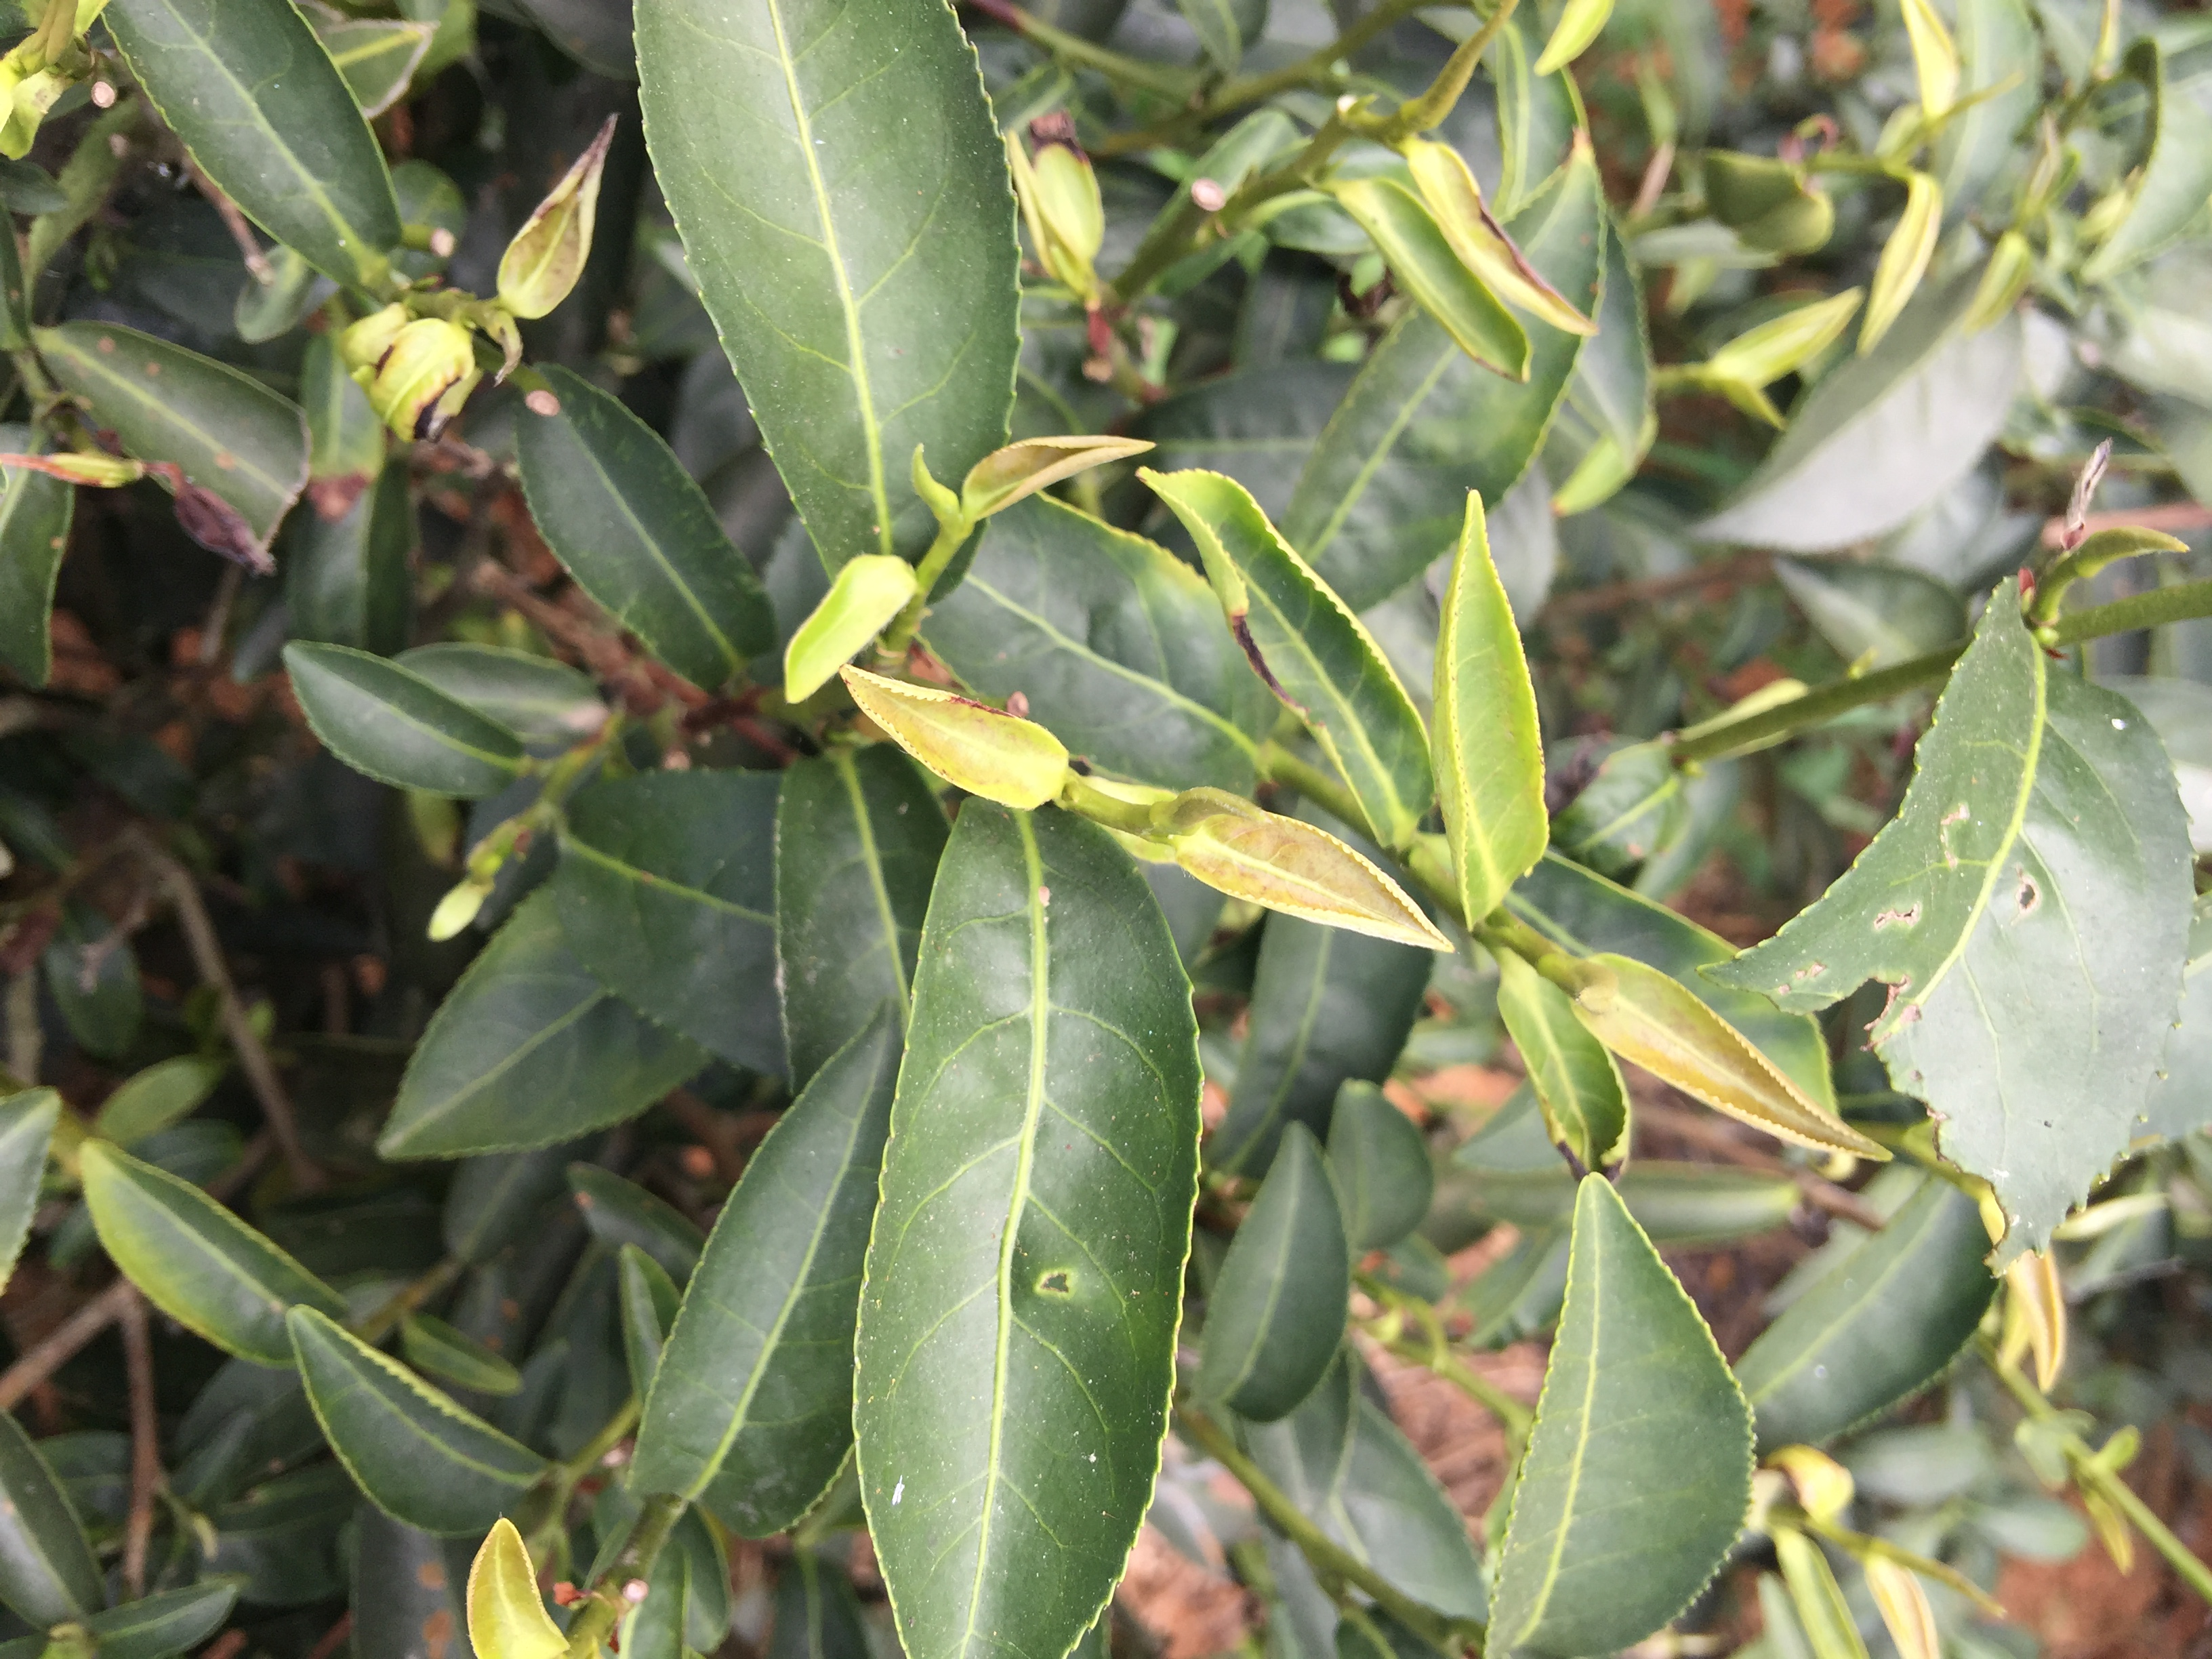formosa: (1125, 786, 1442, 946), (1590, 964, 1850, 1154), (838, 666, 1071, 809)
